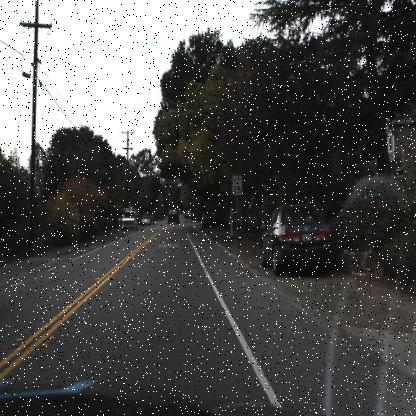car: (259, 205, 335, 278), (119, 209, 139, 233), (199, 210, 215, 232), (167, 208, 181, 227)
